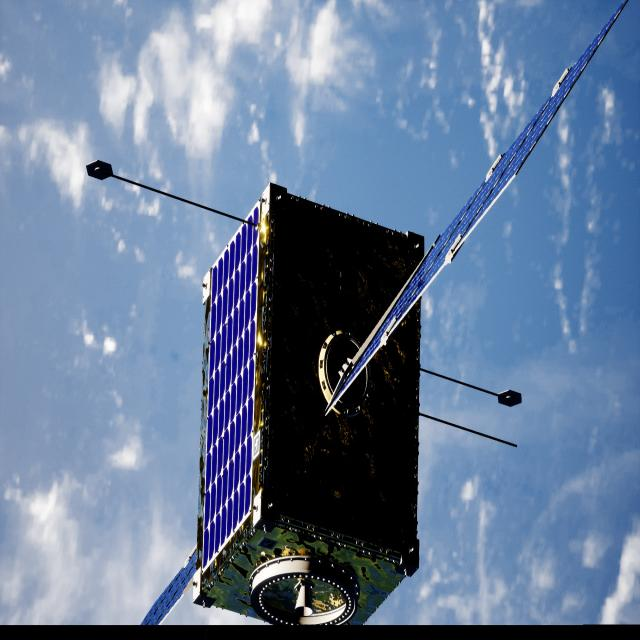satellite: (143, 79, 559, 629)
